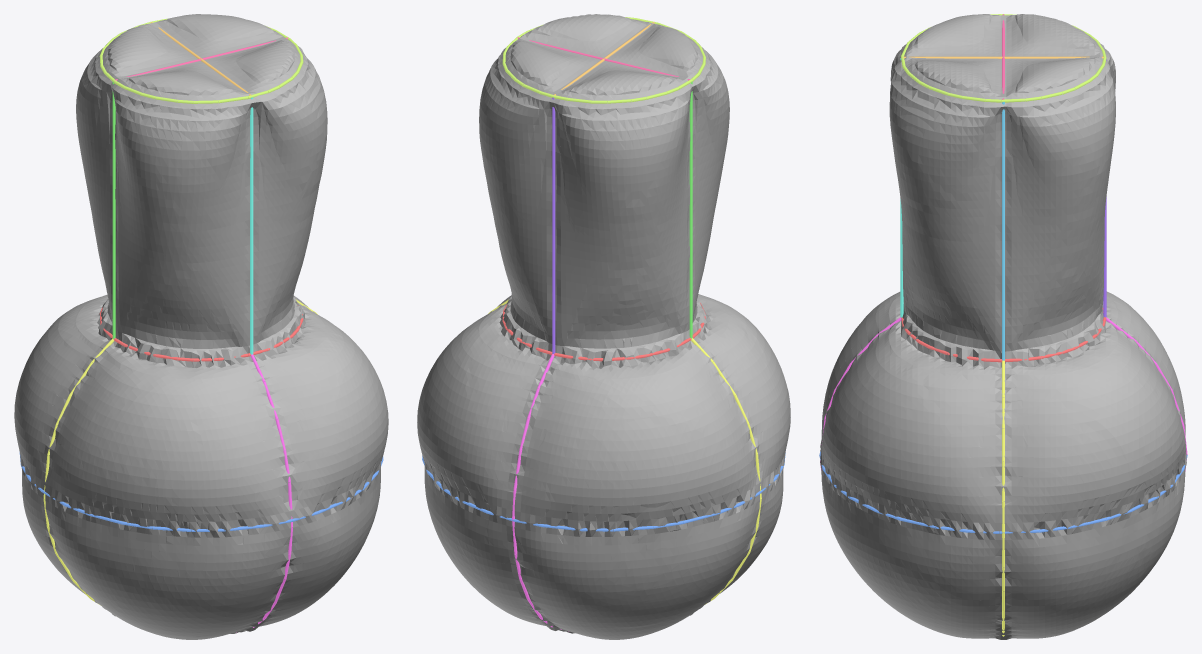
File: flowrep_spherecylinder.gltf
3 views of the same model, side by side, from view 1: azimuth 30°, elevation 25°; view 2: azimuth 150°, elevation 25°; view 3: azimuth 270°, elevation 25° (orthographic).
Size of the model in its own units: 0.4565 by 0.7863 by 0.4564.
